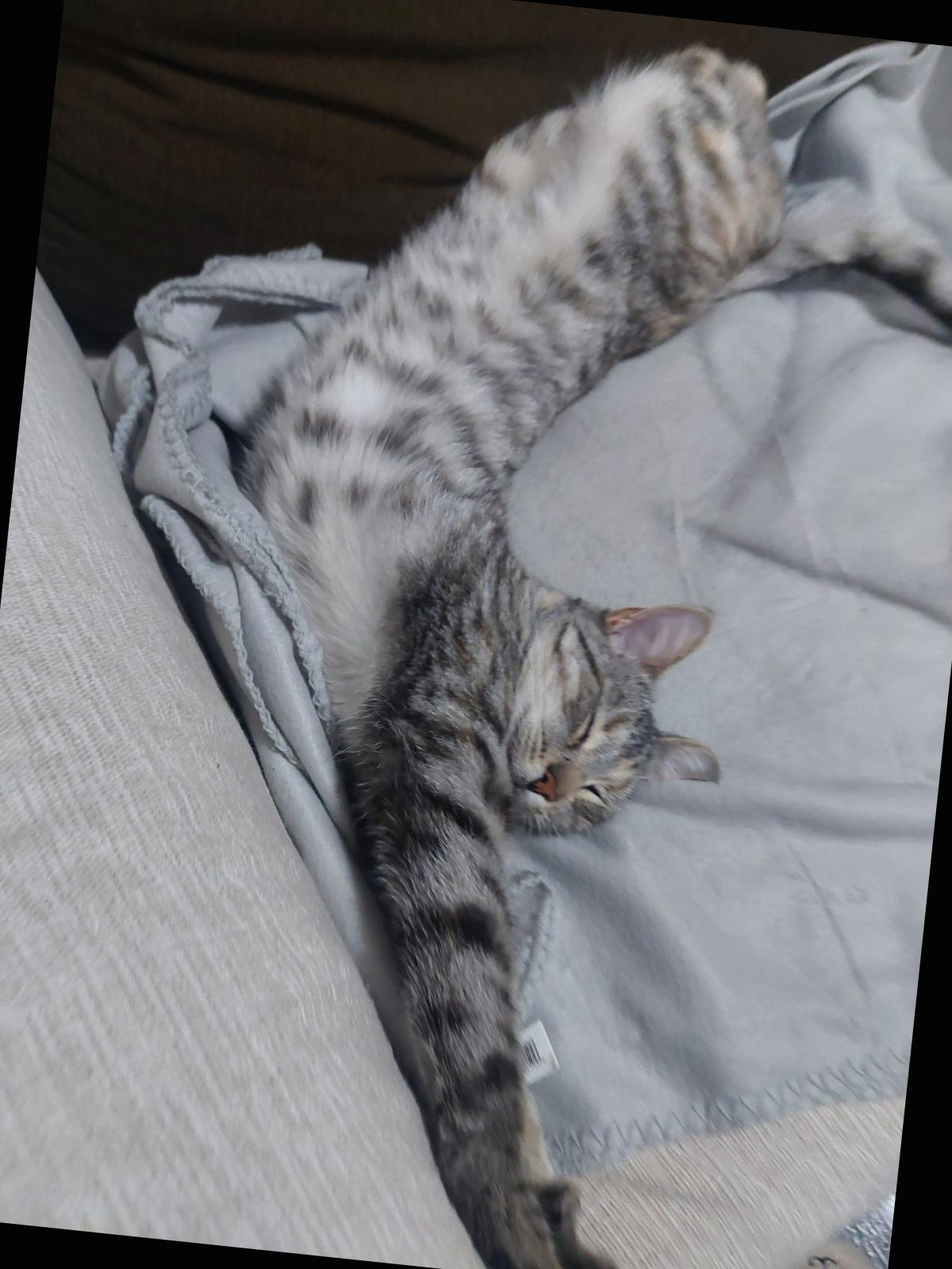macka: (146, 0, 952, 1269)
